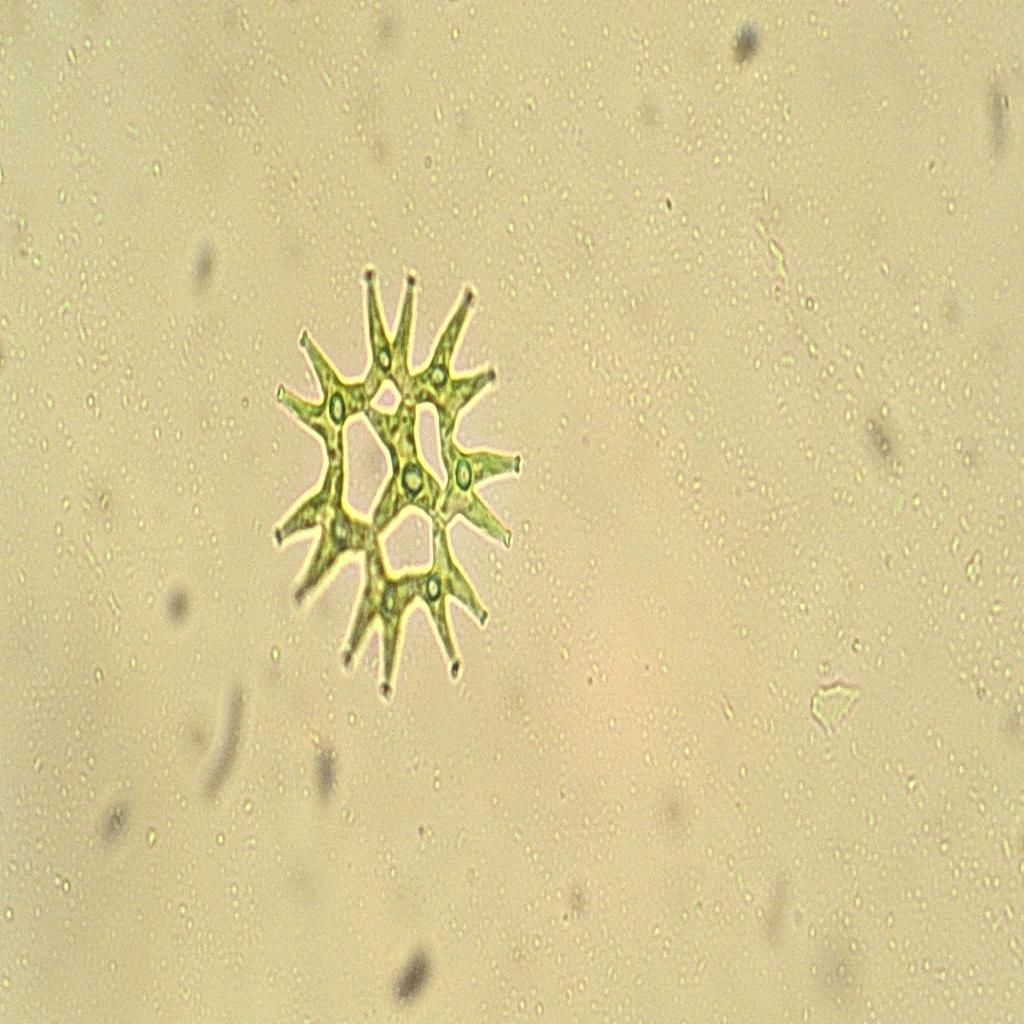Pediastrum_CTH: (260, 248, 530, 708)
